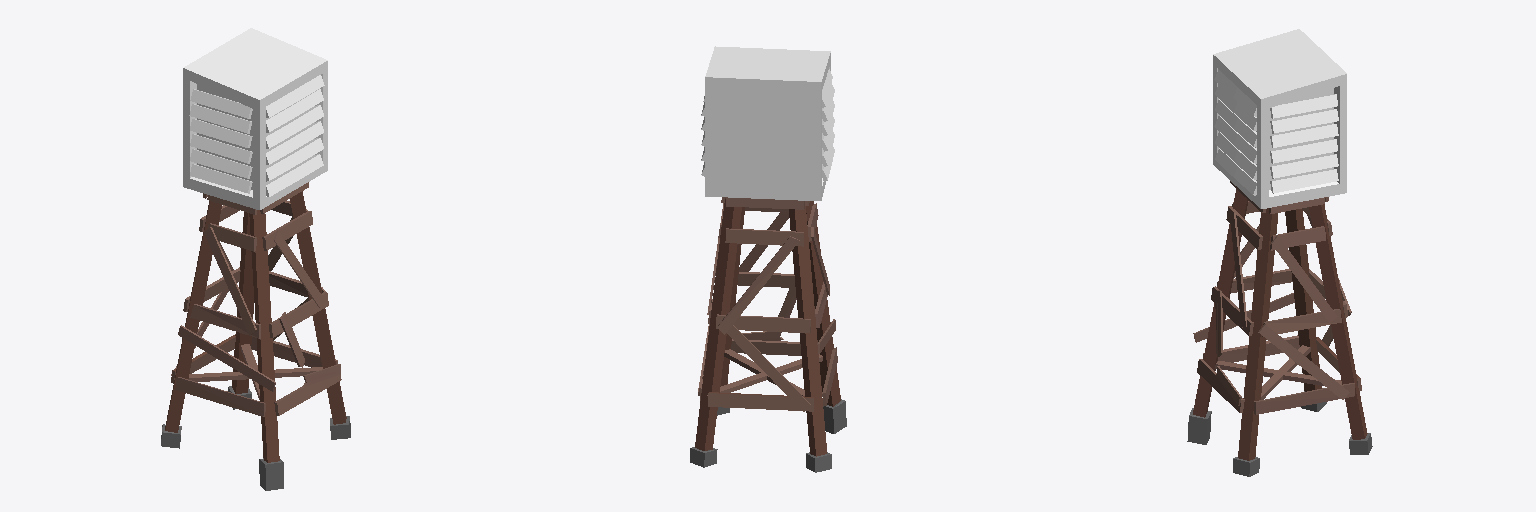
3 views of the same model, side by side, from view 1: azimuth 30°, elevation 25°; view 2: azimuth 150°, elevation 25°; view 3: azimuth 270°, elevation 25° (orthographic).
Visible parts, largest first — view 1: Plane.000_Plane.003; view 2: Plane.000_Plane.003; view 3: Plane.000_Plane.003.
Part boxes in pixels (x1,y1,x2,y2): Plane.000_Plane.003: (161,28,350,490); Plane.000_Plane.003: (690,46,846,472); Plane.000_Plane.003: (1187,29,1372,476).
Size of the model in its own units: 3.38 by 7.94 by 3.39.
1 materials, 1 textured.